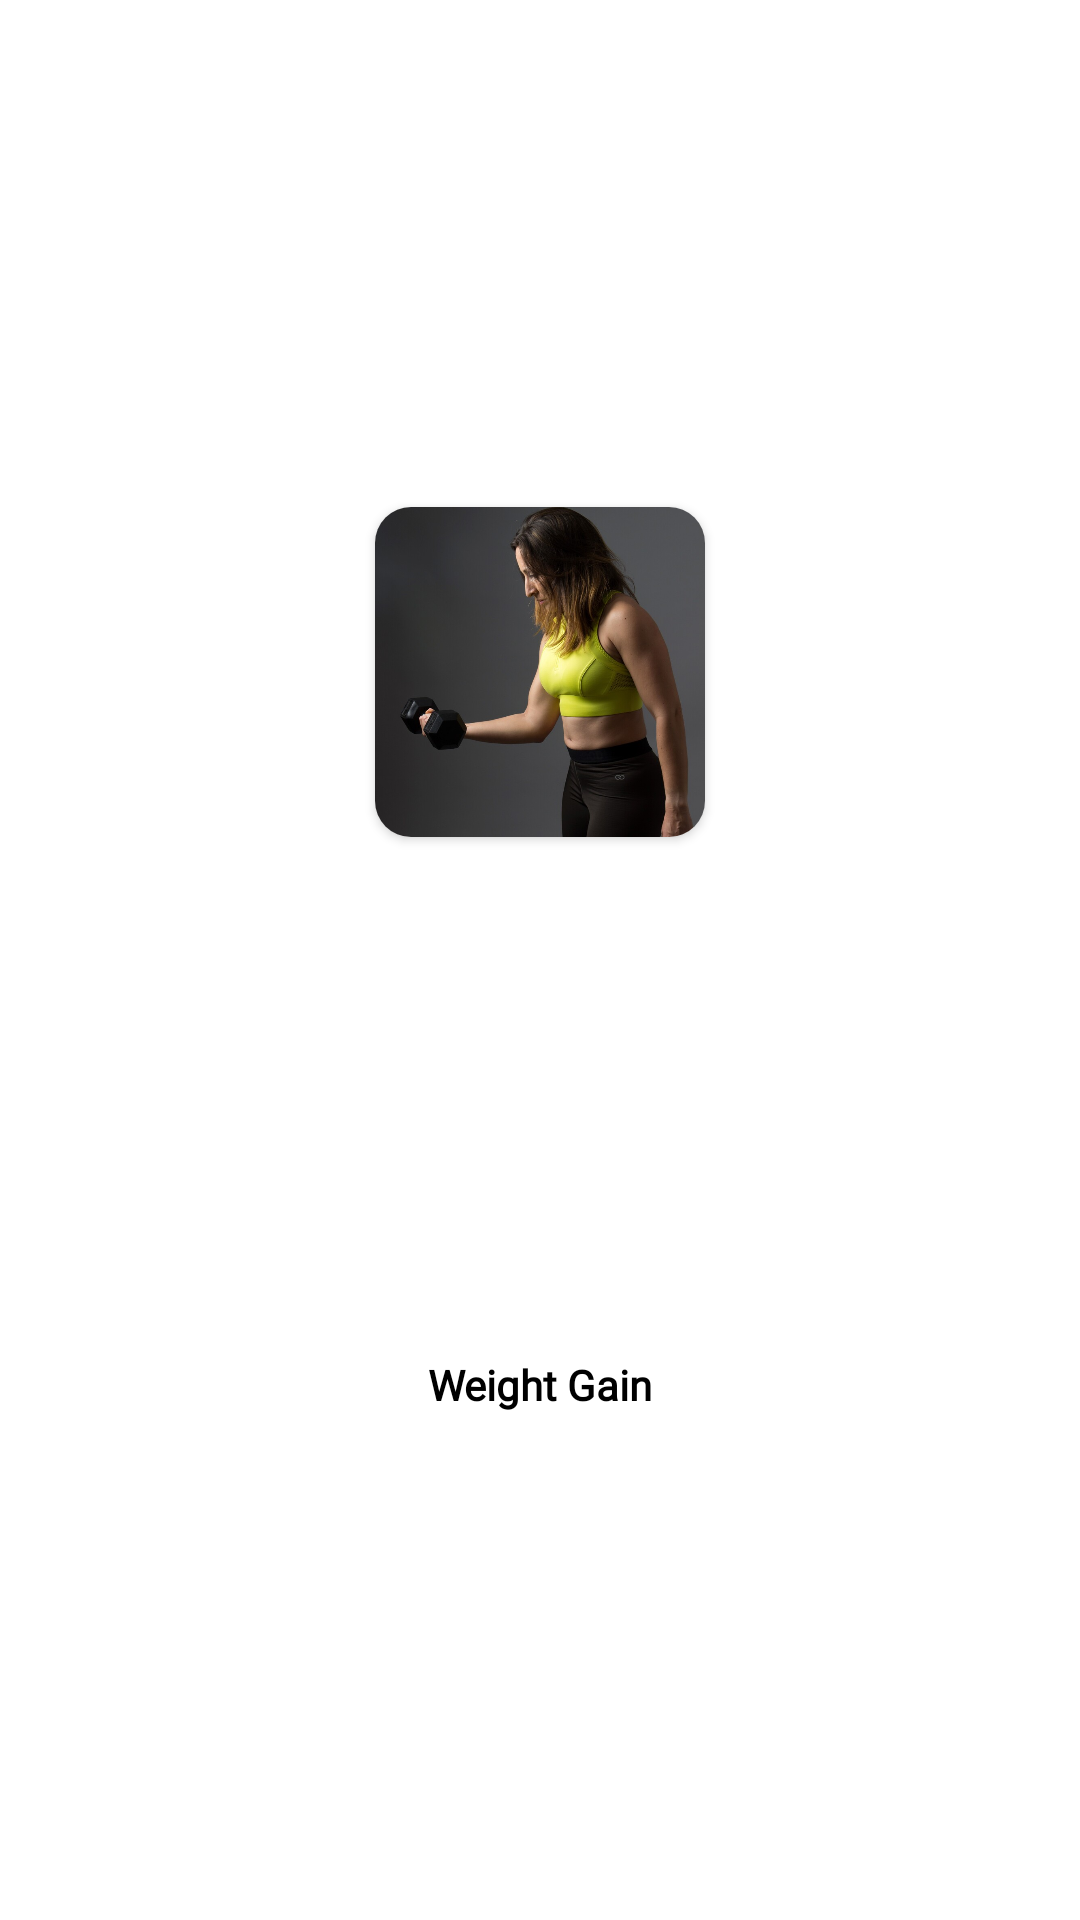

Locate icon controls on the screen. Image size 1080w x 1920h, boxes as (x1, y1, x2, y2).
girlgymming: (375, 507, 705, 837)
